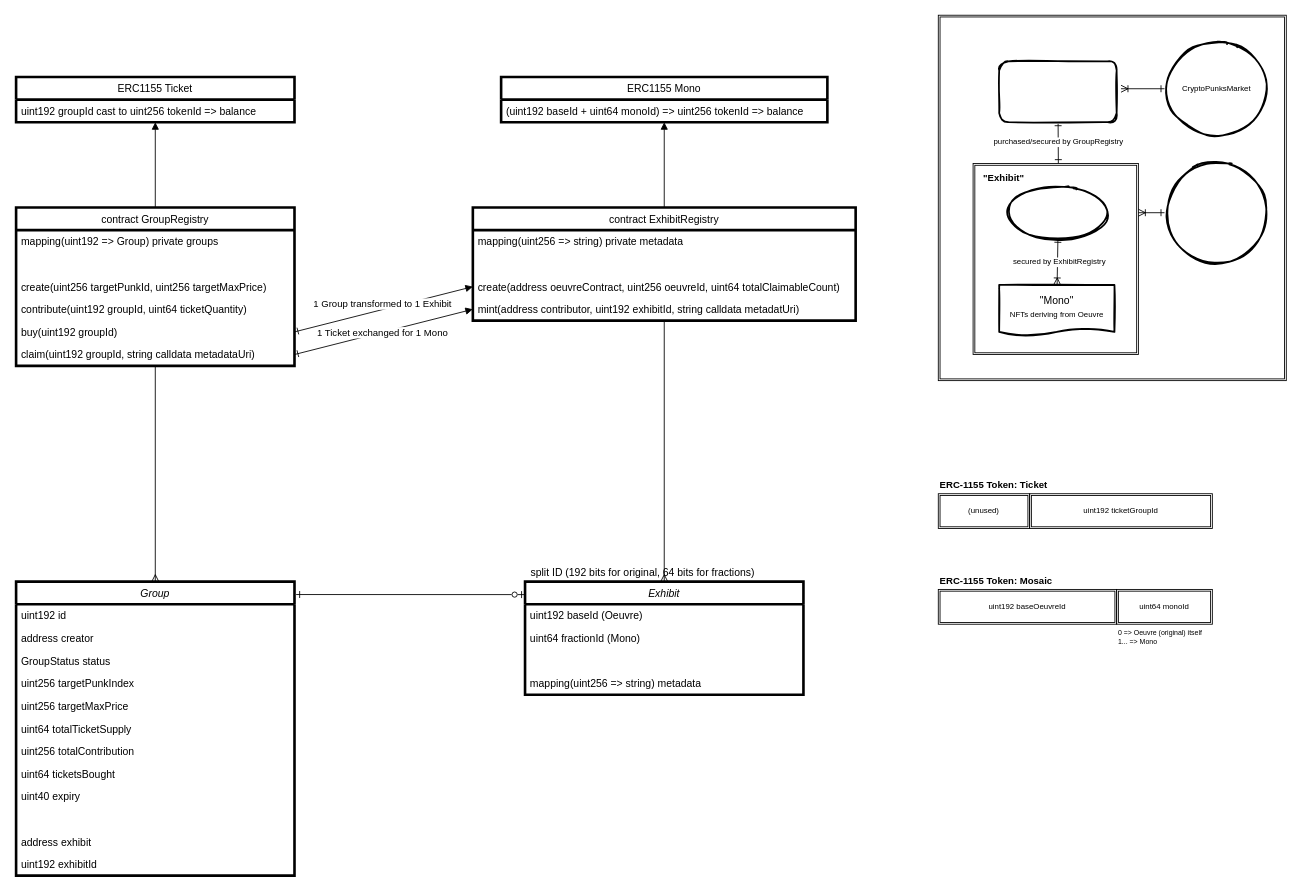
The diagram is 1302 pixels wide and 893 high, and some of its shapes have lost their labels. The centre of each missing label's shape, as x and y in pixels:
"Oeuvre" original in Exhibit vault: (1057,212)
Mosaic Protocol: (1216,212)
Original (each CryptoPunk NFT): (1057,91)
